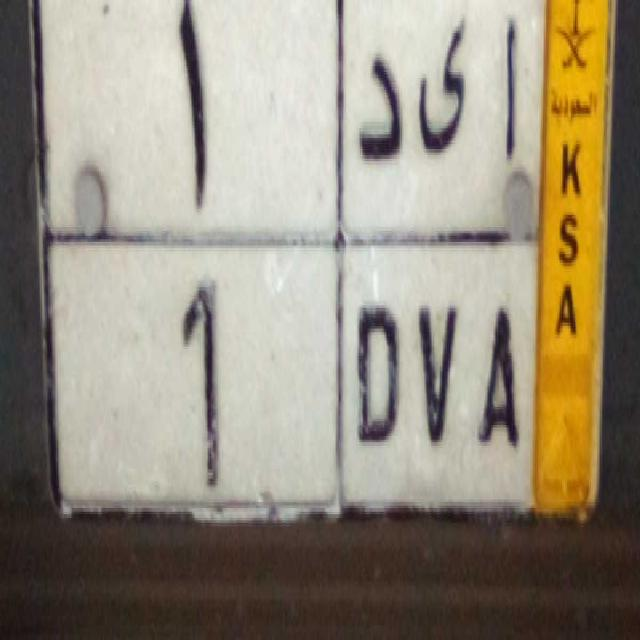license_plate: (39, 230, 539, 525)
